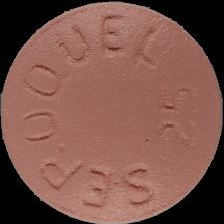0310-0275: (0, 0, 224, 224)
